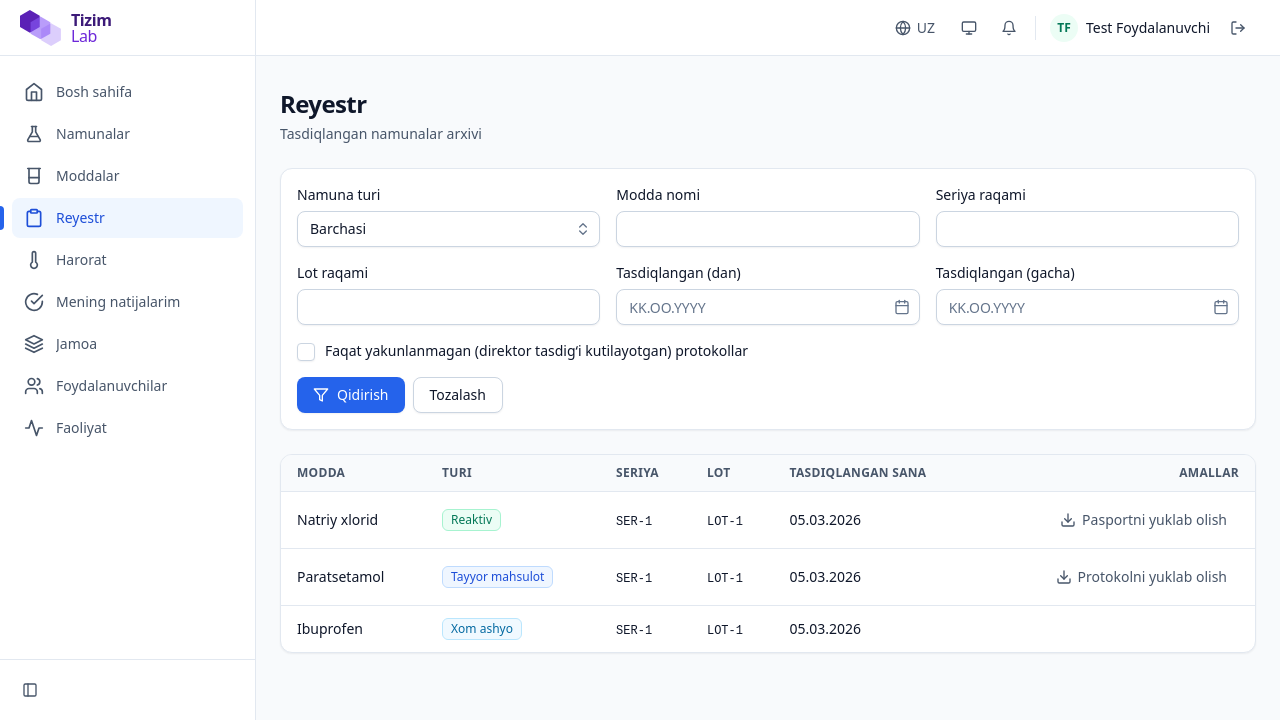
/registry (R-FE-26) › noto‘g‘ri sana va oraliq — xato, so‘rov yuborilmaydi
expect the link "Natriy xlorid" is shown: met, box [297,510,378,529]
Type "2026-03-01" into the field labelled "Tasdiqlangan (dan)".
click(768, 307); type("2026-03-01")  # box [616,289,920,325]
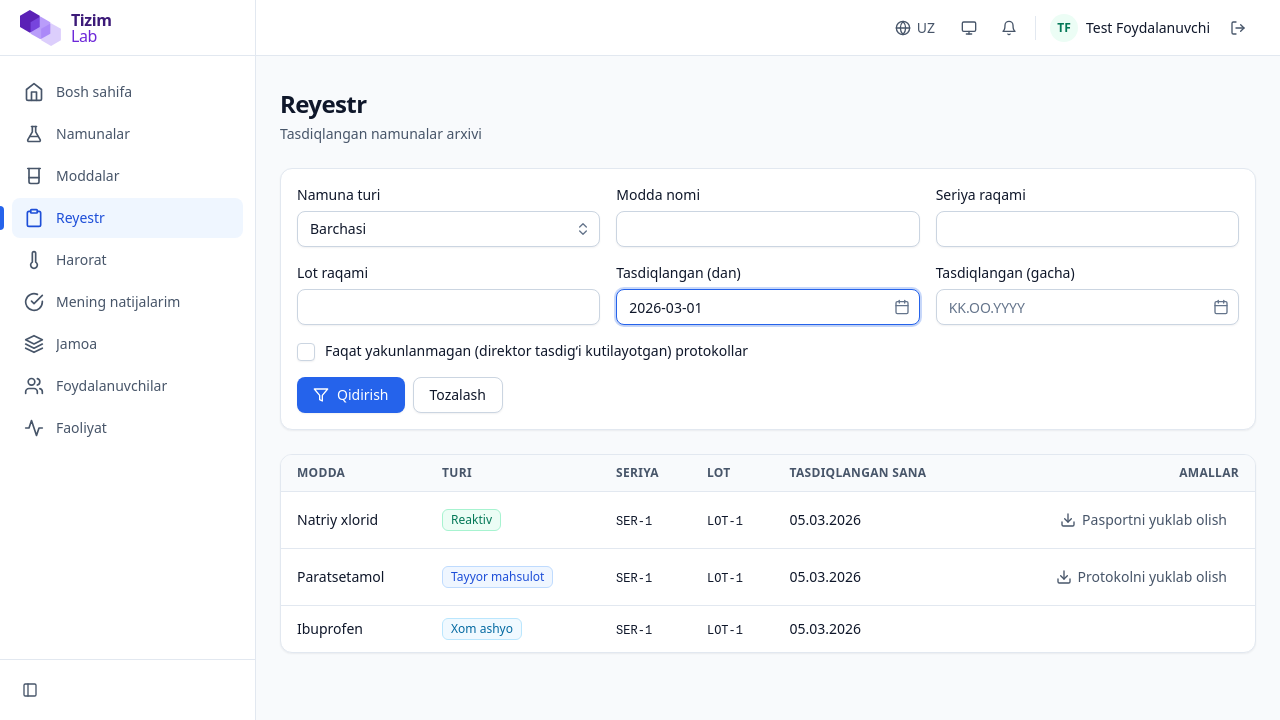
Click the button "Qidirish".
click(351, 395)  # box [297,377,404,413]
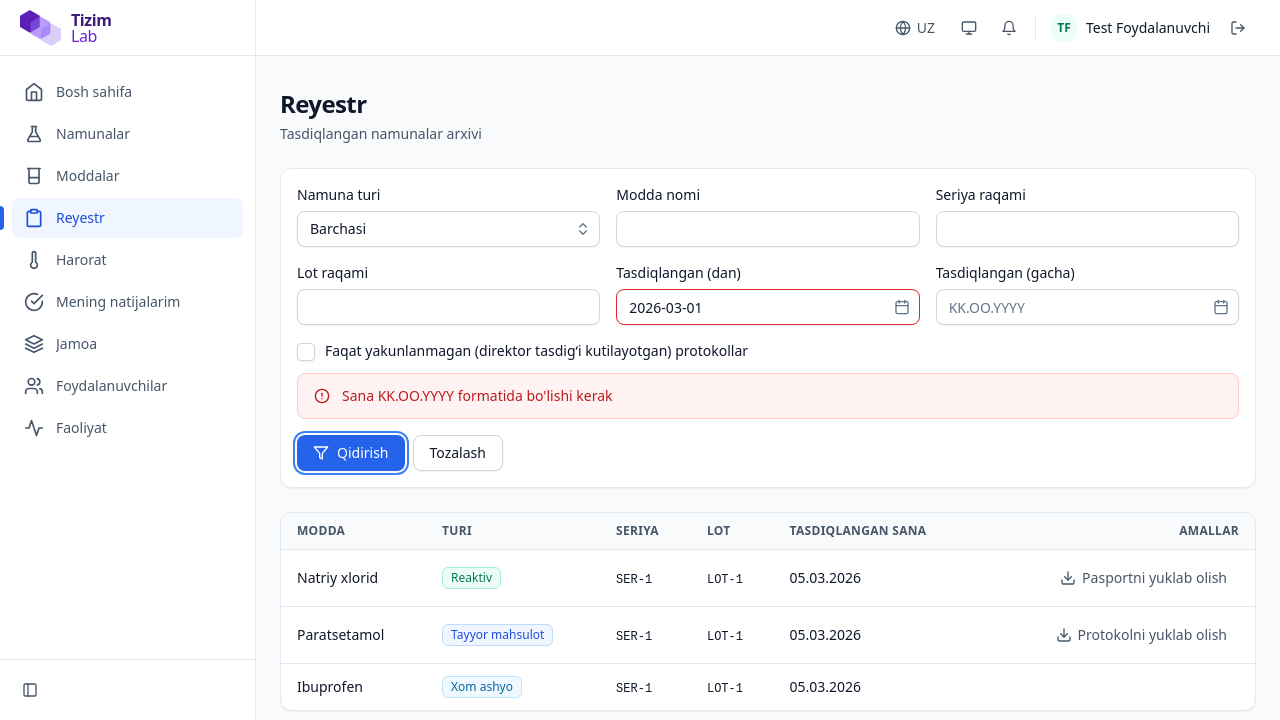
expect the message reads "Sana KK.OO.YYYY formatida bo'lishi kerak": met, box [342,386,612,405]
Replace the text in the field labelled "Tasdiqlangan (dan)" with "10.04.2026" at (768, 307), box [616,289,920,325]
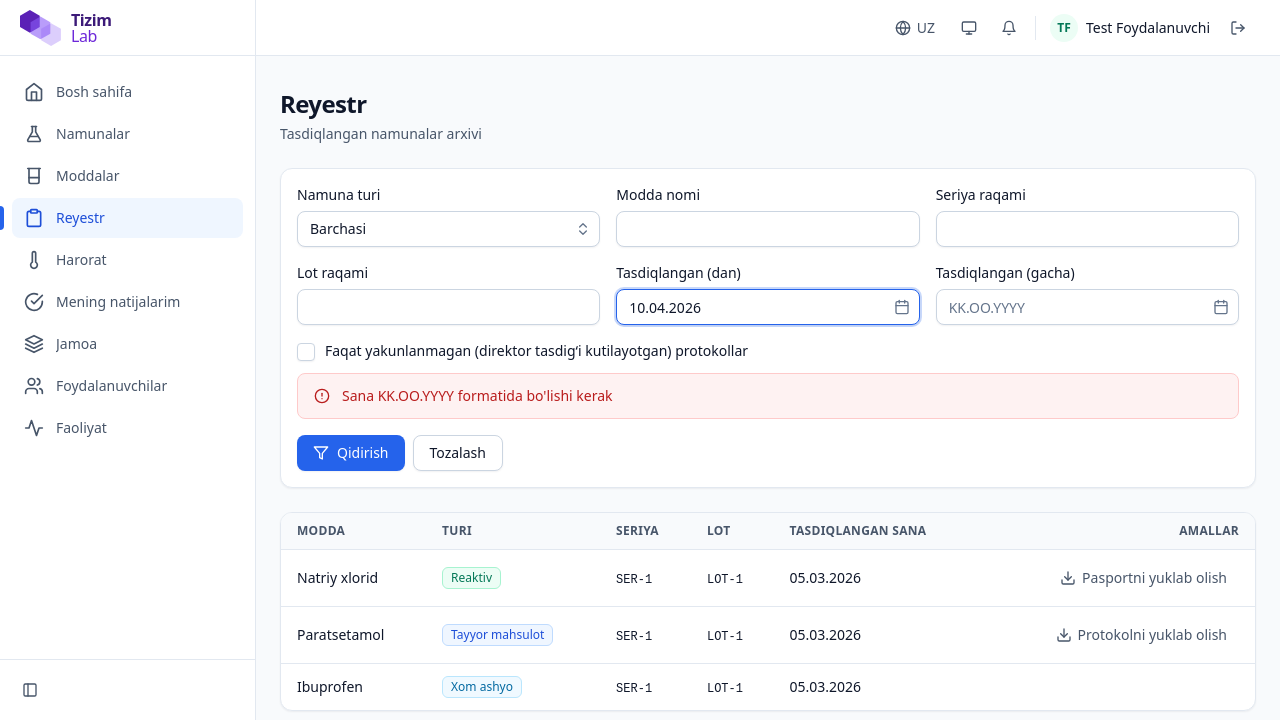
Type "01.04.2026" into the field labelled "Tasdiqlangan (gacha)".
click(1087, 307); type("01.04.2026")  # box [936,289,1239,325]
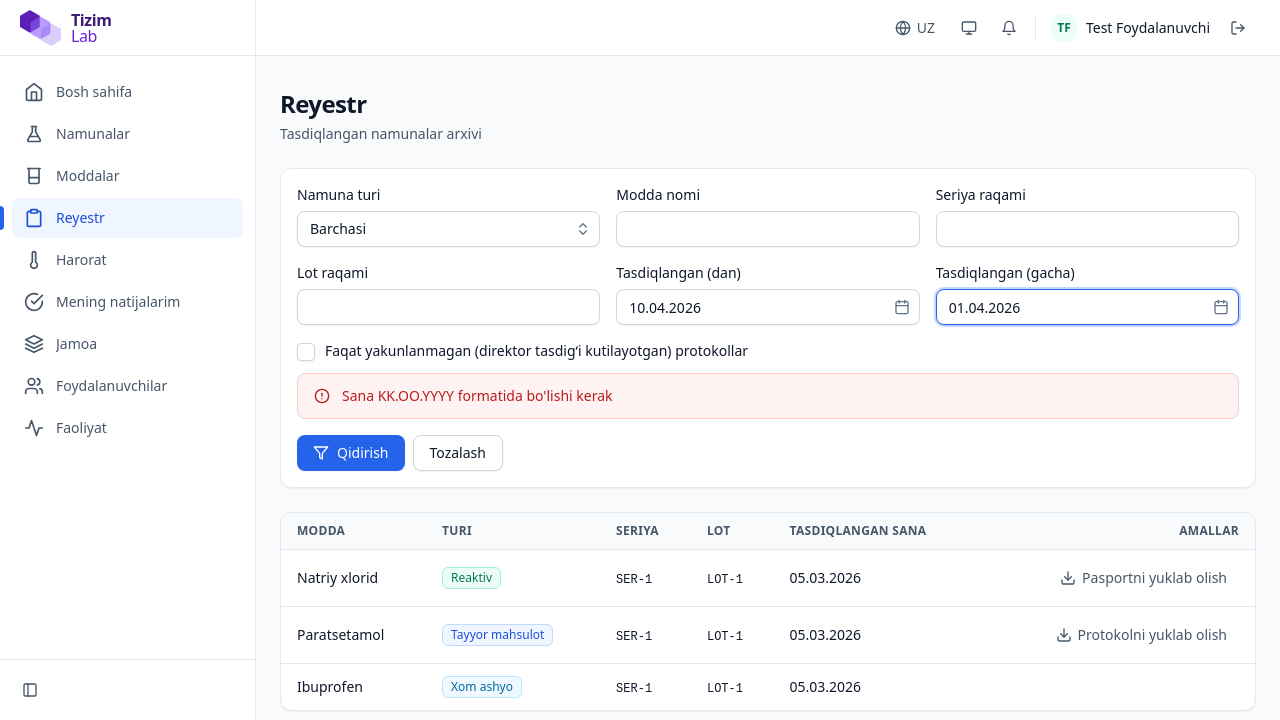
Click the button "Qidirish".
click(351, 453)  # box [297,435,404,471]
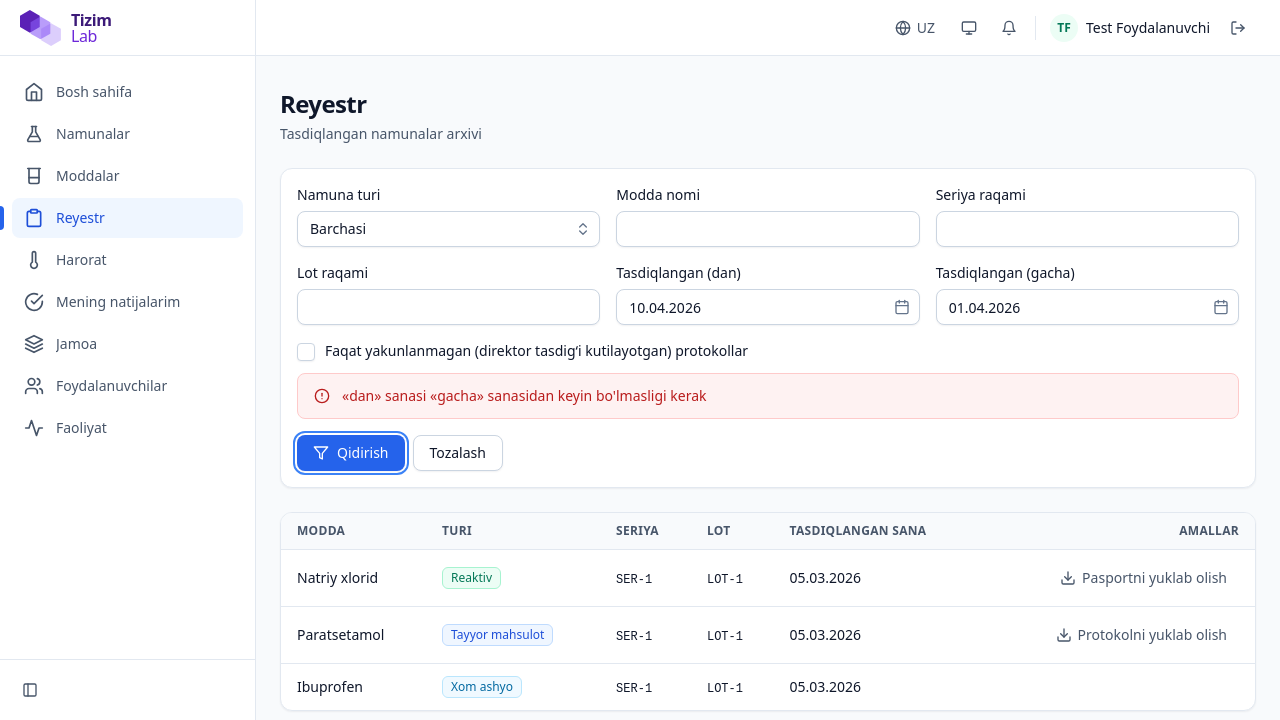
expect the message reads "«dan» sanasi «gacha» sanasidan keyin bo'lmasligi kerak": met, box [342,386,706,405]
